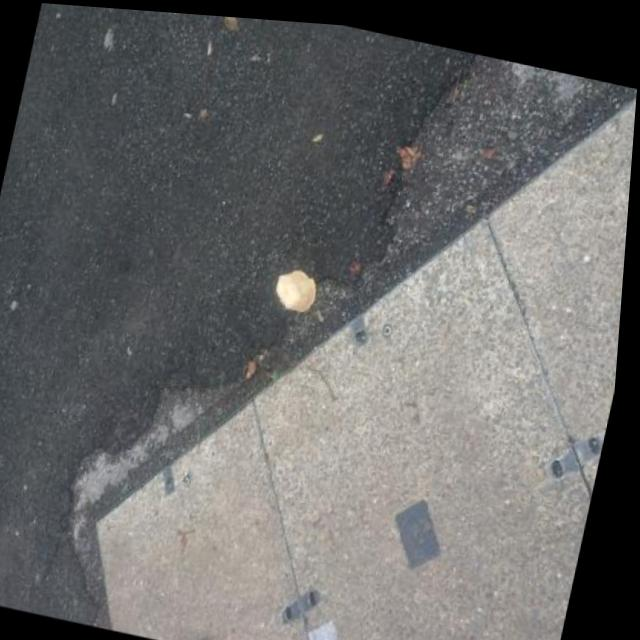plastic: (270, 267, 321, 318)
